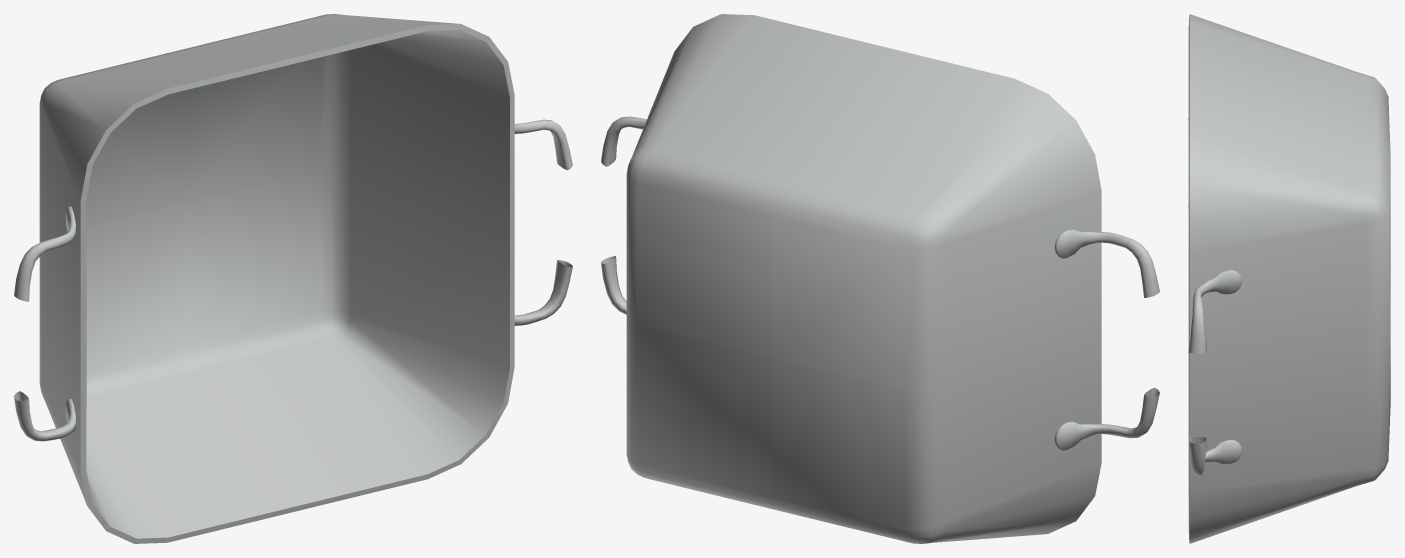
File: MeshPot_14_0_GeomSubset_0.obj
3 views of the same model, side by side, from view 1: azimuth 30°, elevation 25°; view 2: azimuth 150°, elevation 25°; view 3: azimuth 270°, elevation 25° (orthographic). The views are drawn at different scales.
Visible parts, largest first — view 1: MeshPot_14_0_GeomSubset_0; view 2: MeshPot_14_0_GeomSubset_0; view 3: MeshPot_14_0_GeomSubset_0.
Boxes of the visible parts, box(x1,y1,x2,y2) form: MeshPot_14_0_GeomSubset_0: box(14, 14, 572, 543); MeshPot_14_0_GeomSubset_0: box(601, 14, 1159, 543); MeshPot_14_0_GeomSubset_0: box(1188, 14, 1390, 543).
Size of the model in its own units: 0.3299 by 0.2581 by 0.1179.
